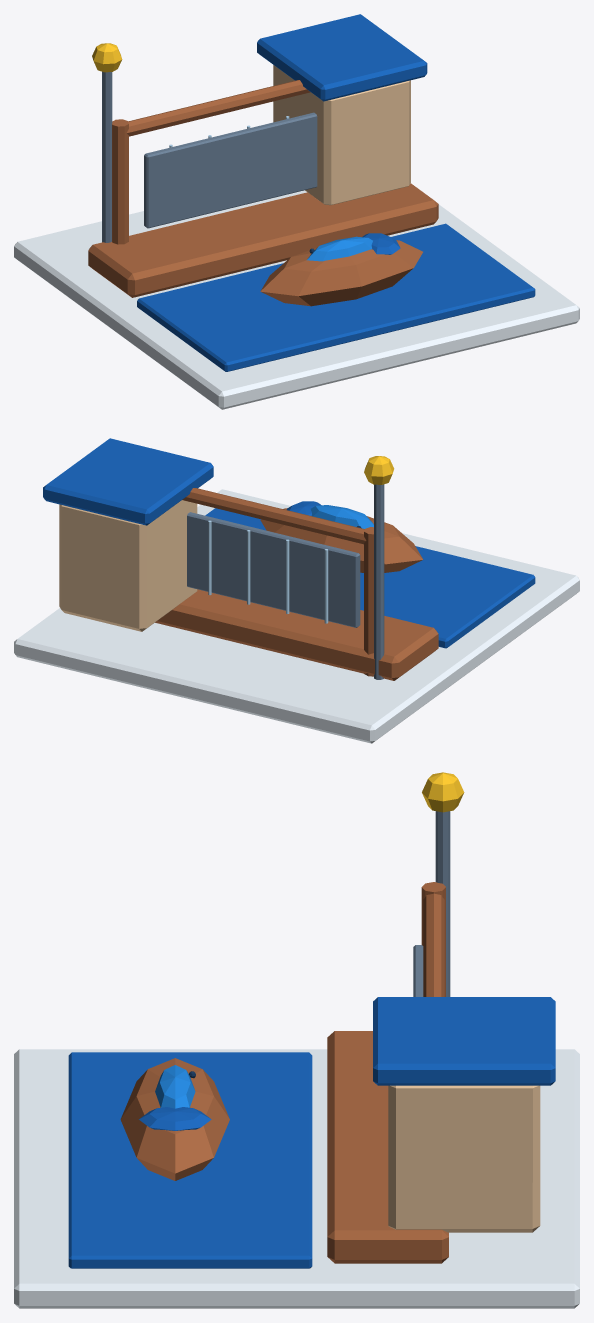
The model's file is Building_Fishery_2x2_v001.fbx.
The picture shows the model from 3 angles, top to bottom: view 1: azimuth 30°, elevation 25°; view 2: azimuth 150°, elevation 25°; view 3: azimuth 270°, elevation 25°; orthographic projection. The views are drawn at different scales.
Parts seen in each view (by area): view 1: Foundation, WaterBasin, Pier, Net_Anim, Store, StoreRoof, Boat_Anim, NetBeam, PierPost.001, SignalMast, FishBody, SignalLamp (+1 smaller); view 2: Foundation, Store, Net_Anim, Pier, WaterBasin, StoreRoof, NetBeam, Boat_Anim, SignalMast, PierPost.001, FishBody, SignalLamp; view 3: Foundation, WaterBasin, Store, StoreRoof, Pier, Boat_Anim, NetBeam, SignalMast, FishBody, FishTail, SignalLamp.
Part boxes in pixels (x1,y1,x2,y2): Foundation: [14, 190, 579, 409]; WaterBasin: [137, 223, 535, 371]; Pier: [88, 183, 438, 297]; Net_Anim: [144, 112, 317, 228]; Store: [273, 65, 410, 205]; StoreRoof: [257, 14, 427, 101]; Boat_Anim: [260, 240, 422, 306]; NetBeam: [126, 80, 310, 136]; PierPost.001: [112, 119, 128, 244]; SignalMast: [102, 71, 112, 242]; FishBody: [307, 236, 372, 261]; SignalLamp: [92, 43, 122, 72]; Foundation: [14, 489, 579, 743]; Store: [59, 500, 197, 631]; Net_Anim: [187, 512, 360, 627]; Pier: [155, 589, 438, 680]; WaterBasin: [205, 508, 535, 648]; StoreRoof: [43, 438, 213, 525]; NetBeam: [182, 488, 366, 544]; Boat_Anim: [260, 508, 423, 572]; SignalMast: [374, 484, 384, 679]; PierPost.001: [364, 527, 373, 676]; FishBody: [310, 505, 373, 528]; SignalLamp: [364, 456, 394, 484]; Foundation: [14, 1049, 579, 1308]; WaterBasin: [68, 1052, 312, 1268]; Store: [388, 1085, 540, 1232]; StoreRoof: [373, 997, 555, 1085]; Pier: [327, 1031, 448, 1263]; Boat_Anim: [120, 1058, 229, 1180]; NetBeam: [423, 893, 444, 996]; SignalMast: [435, 811, 450, 996]; FishBody: [155, 1065, 195, 1108]; FishTail: [139, 1107, 211, 1130]; SignalLamp: [422, 772, 464, 812].
Bounding box in the file's own units: 186 × 119 × 186.
